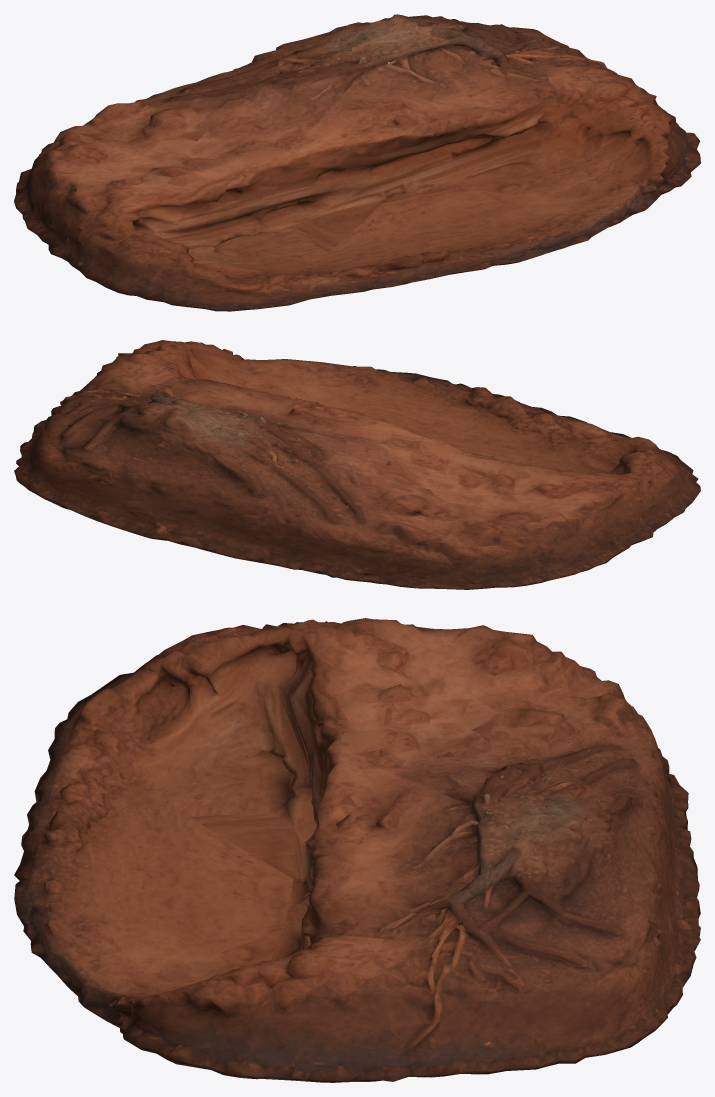
File: clay-12-lod0.gltf
The picture shows the model from 3 angles, top to bottom: view 1: azimuth 30°, elevation 25°; view 2: azimuth 150°, elevation 25°; view 3: azimuth 270°, elevation 25°; orthographic projection. The views are drawn at different scales.
Parts seen in each view (by area): view 1: clay stage 3 L0; view 2: clay stage 3 L0; view 3: clay stage 3 L0.
Part boxes in pixels (<box>): clay stage 3 L0: <box>14,14,700,311</box>; clay stage 3 L0: <box>14,340,700,589</box>; clay stage 3 L0: <box>14,618,700,1082</box>.
Bounding box in the file's own units: 1.76 × 0.2441 × 1.21.
Materials: 1 (1 with a texture image).
